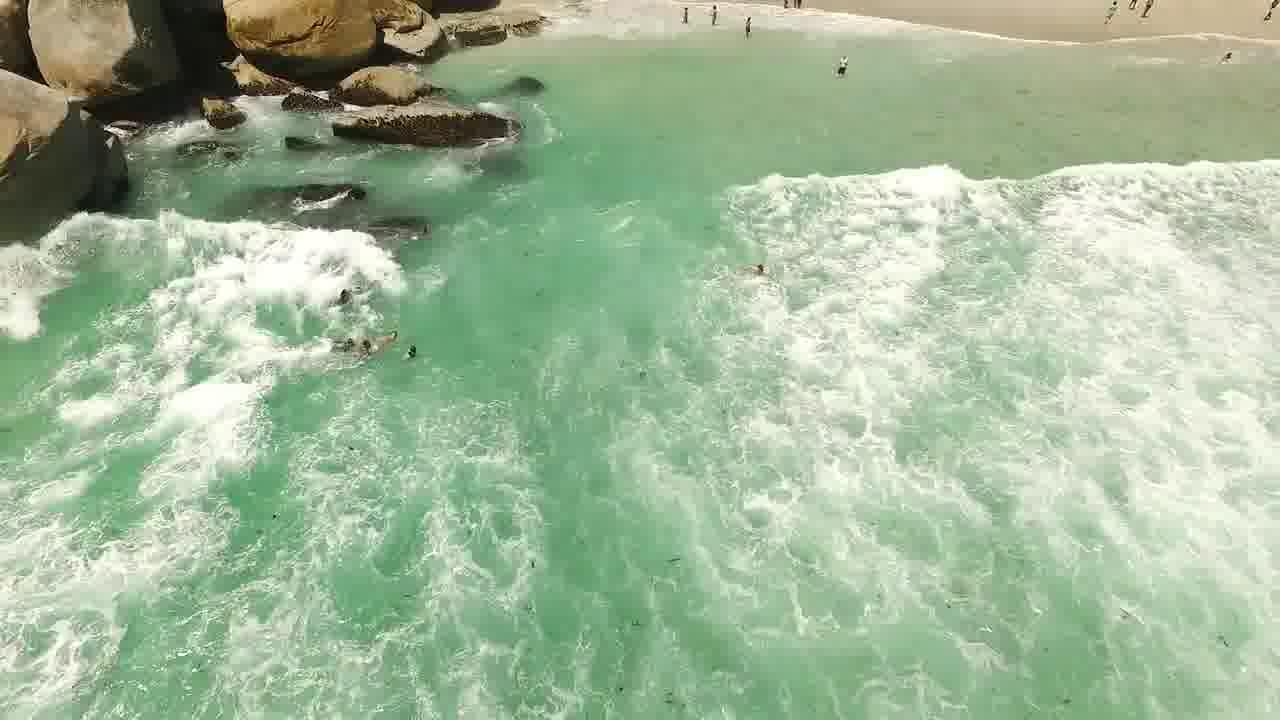human: (395, 329, 434, 382), (315, 281, 368, 310), (731, 11, 774, 44), (818, 53, 859, 84), (741, 256, 767, 298), (1221, 34, 1245, 76), (330, 334, 356, 367), (364, 327, 383, 357), (670, 4, 696, 23)
